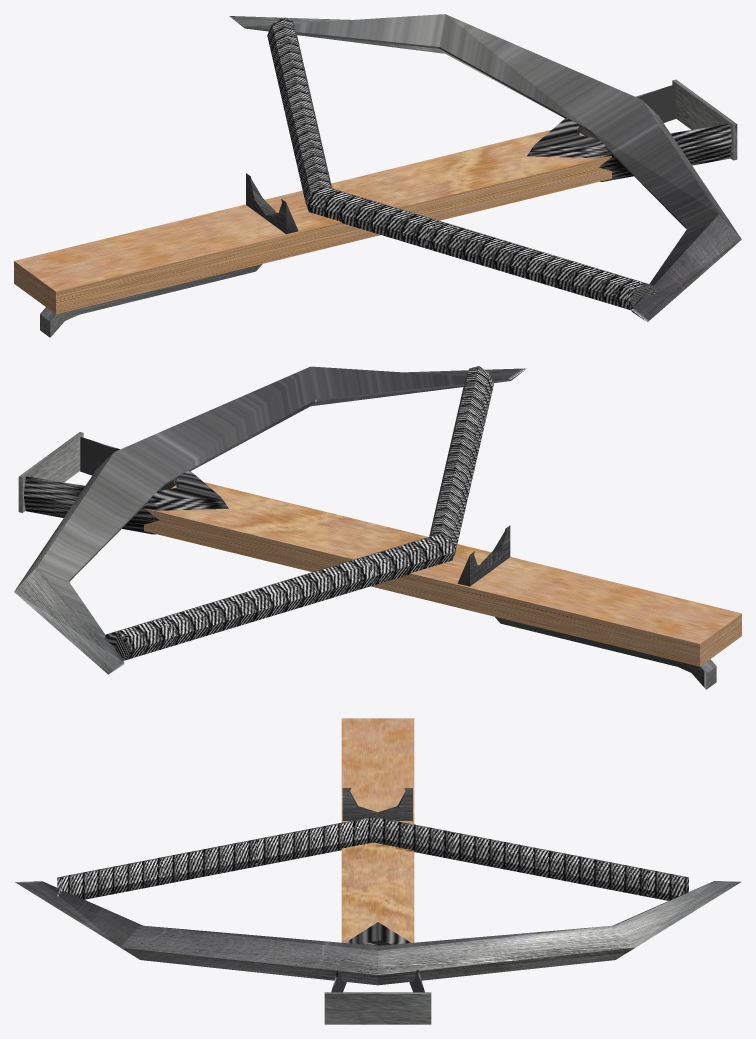
Rendered from Crossbow17.obj.
3 views of the same model, one above another, from view 1: azimuth 30°, elevation 25°; view 2: azimuth 150°, elevation 25°; view 3: azimuth 270°, elevation 25° (orthographic). The views are drawn at different scales.
Visible parts, largest first — view 1: Sphere.002, Sphere.001, Sphere; view 2: Sphere.002, Sphere.001, Sphere; view 3: Sphere.001, Sphere, Sphere.002.
Boxes of the visible parts, x1=… form: Sphere.002: x1=14, y1=129, x2=611, y2=314; Sphere.001: x1=40, y1=14, x2=741, y2=337; Sphere: x1=267, y1=17, x2=731, y2=310; Sphere.002: x1=144, y1=482, x2=741, y2=666; Sphere.001: x1=14, y1=366, x2=716, y2=689; Sphere: x1=23, y1=366, x2=493, y2=660; Sphere.001: x1=14, y1=788, x2=741, y2=1024; Sphere: x1=57, y1=816, x2=688, y2=992; Sphere.002: x1=341, y1=718, x2=414, y2=942.
Bounding box in the file's own units: 4.67 × 0.6142 × 5.04.
